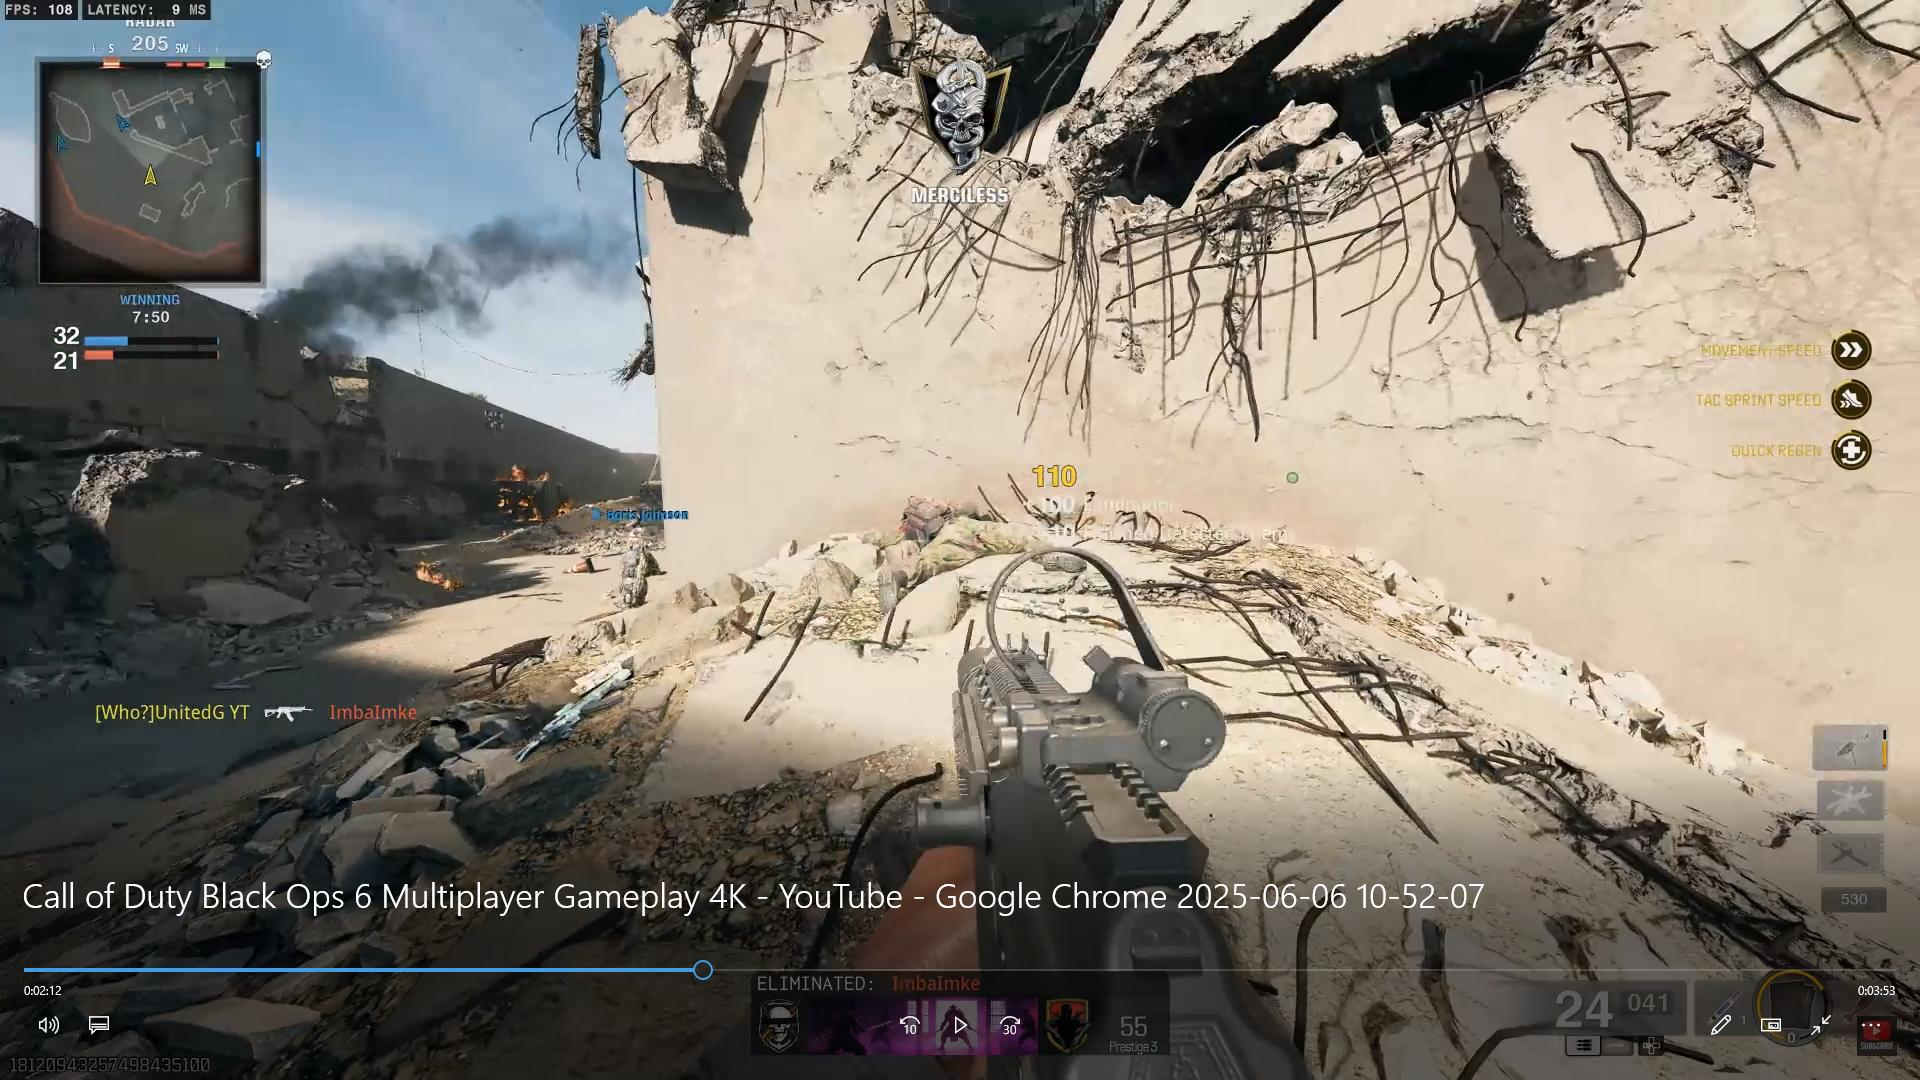Enemy: (615, 533, 667, 604)
